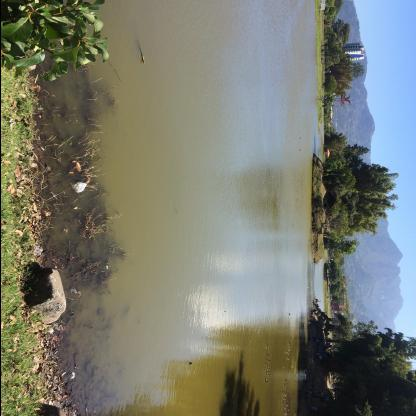plastik: (74, 182, 86, 193)
